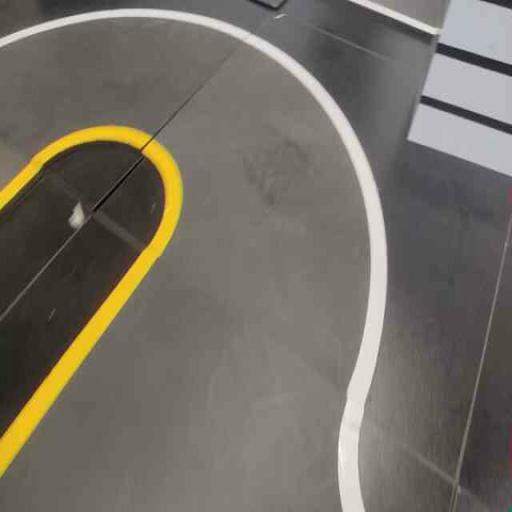left: (92, 20, 405, 430)
